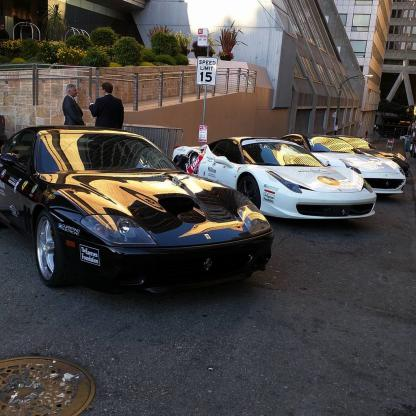Car: (0, 120, 414, 300)
